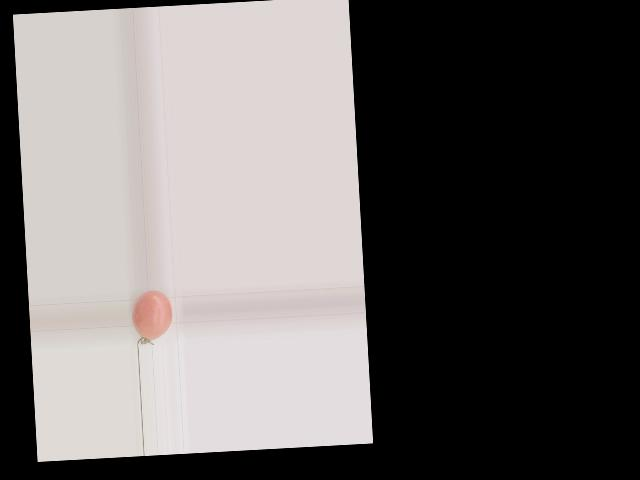tomato: (130, 289, 173, 340)
